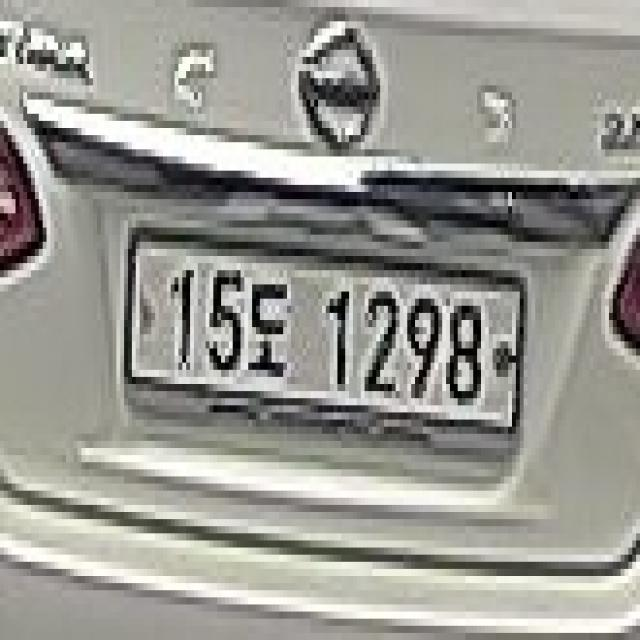1: (318, 270, 357, 398), (166, 256, 202, 384)
2: (361, 278, 403, 406)
5: (206, 249, 248, 391)
8: (446, 284, 489, 420)
9: (403, 278, 442, 412)
do: (248, 263, 291, 391)
license_plate: (117, 214, 536, 484)
